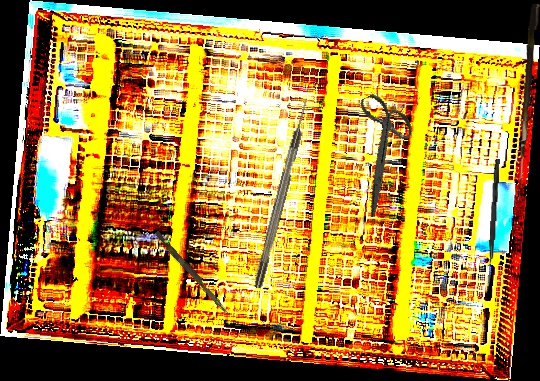Hook Surgical: (251, 98, 313, 289), (517, 3, 540, 201), (487, 158, 500, 284)
Iris Scissors: (322, 85, 440, 218)
Pusher: (152, 230, 233, 316)
